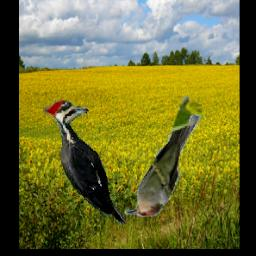Cuckoo: (124, 96, 202, 218)
Woodpecker: (43, 100, 126, 224)
